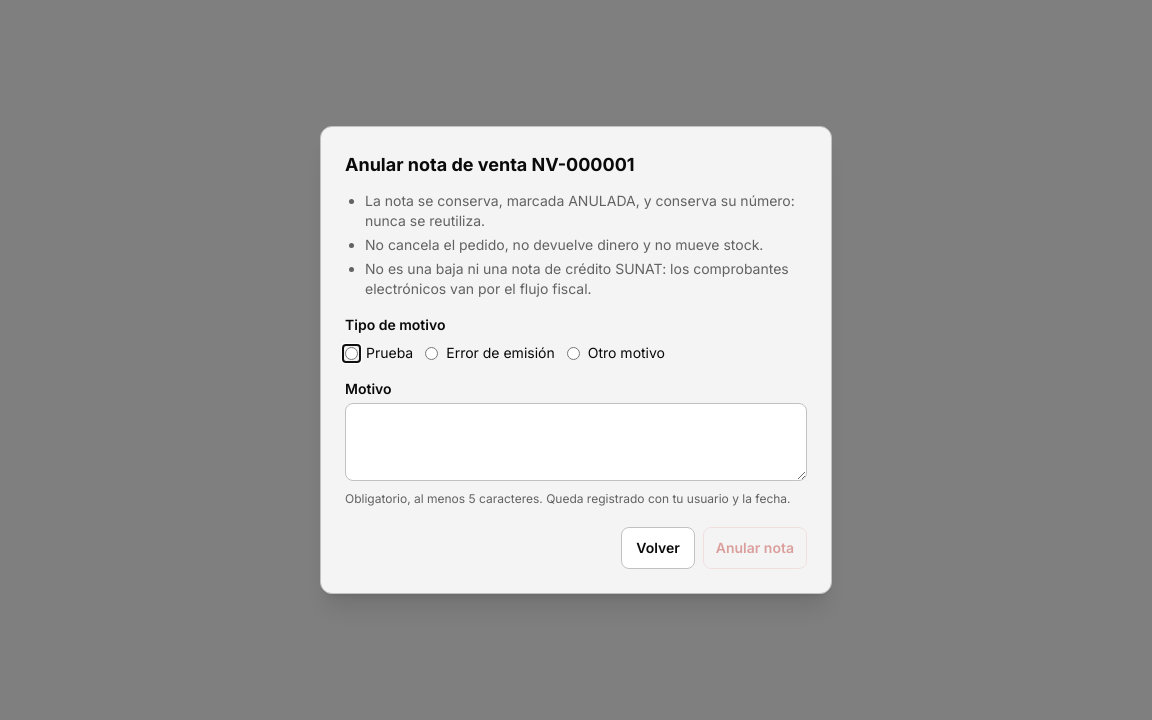
it: SalesNoteVoidDialog › needs a reason type and a reason of at least 5 characters
Expected: the button "Anular nota" is disabled, [703,527,807,569]
# A valid reason without a type is not enough.
In the text box labelled "Motivo": point(576, 442) [345,403,807,481], type "Nota   de prueba"
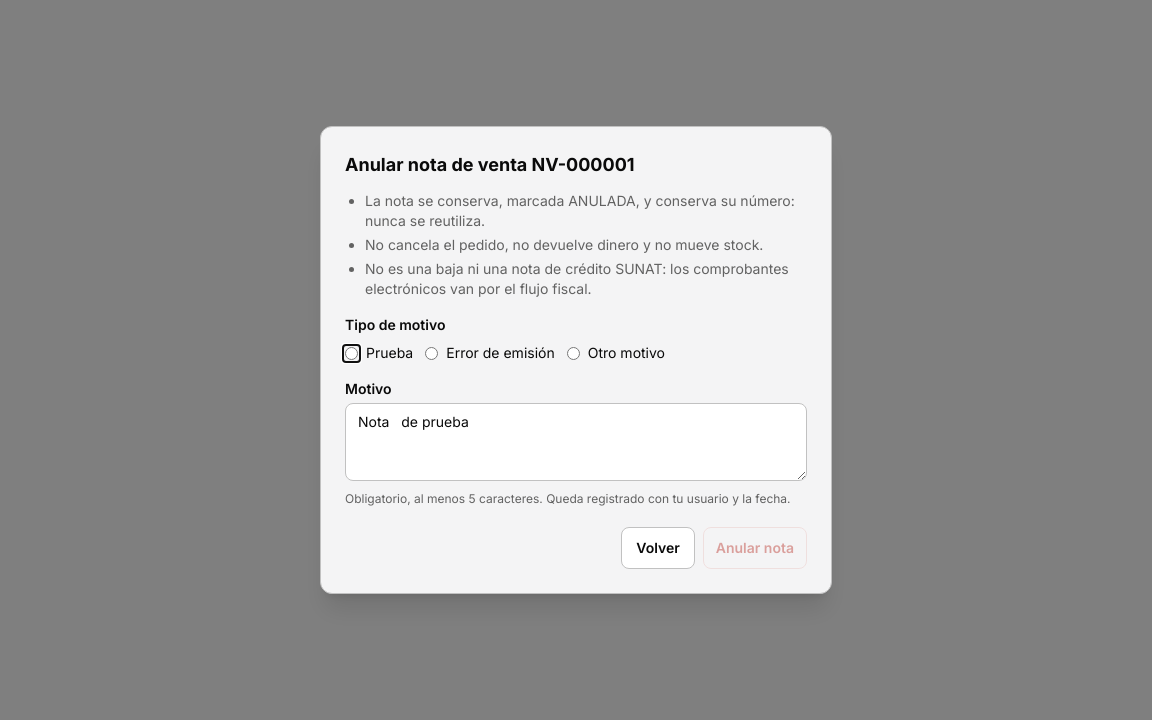
Expected: the button "Anular nota" is disabled, [703,527,807,569]
Replace the text in the text box labelled "Motivo" with "   abc    ": point(576, 442) [345,403,807,481]
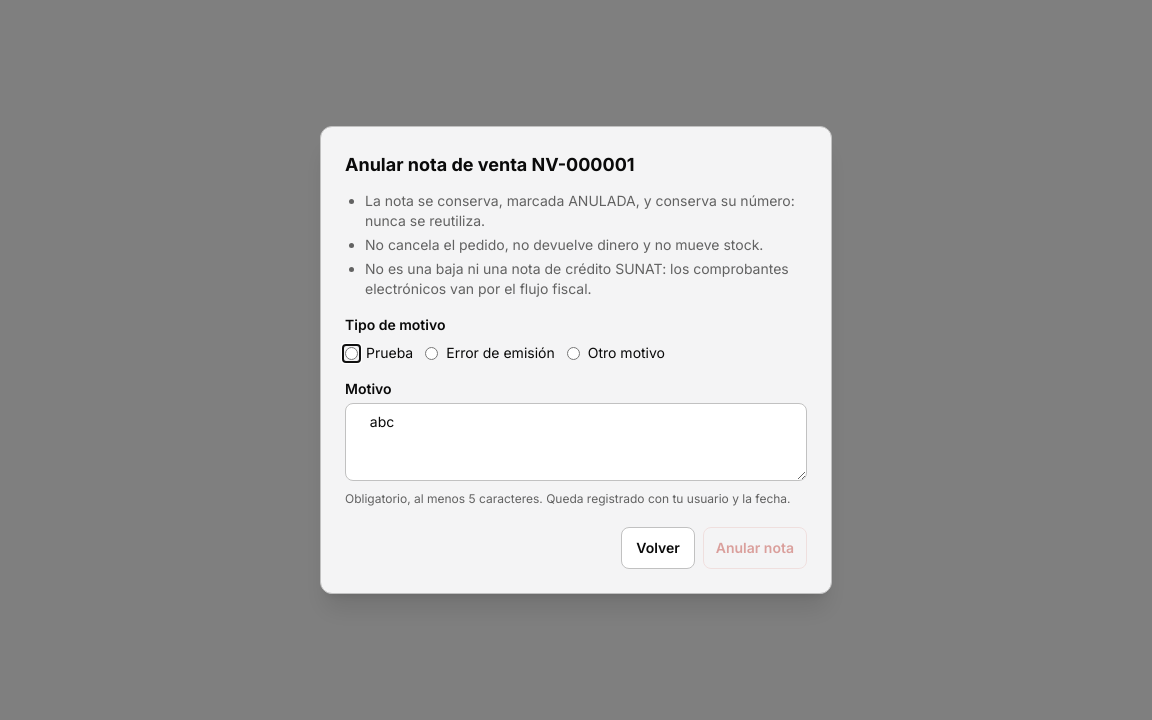
Click the radio button labelled "Prueba": point(352, 353) [345,346,358,360]
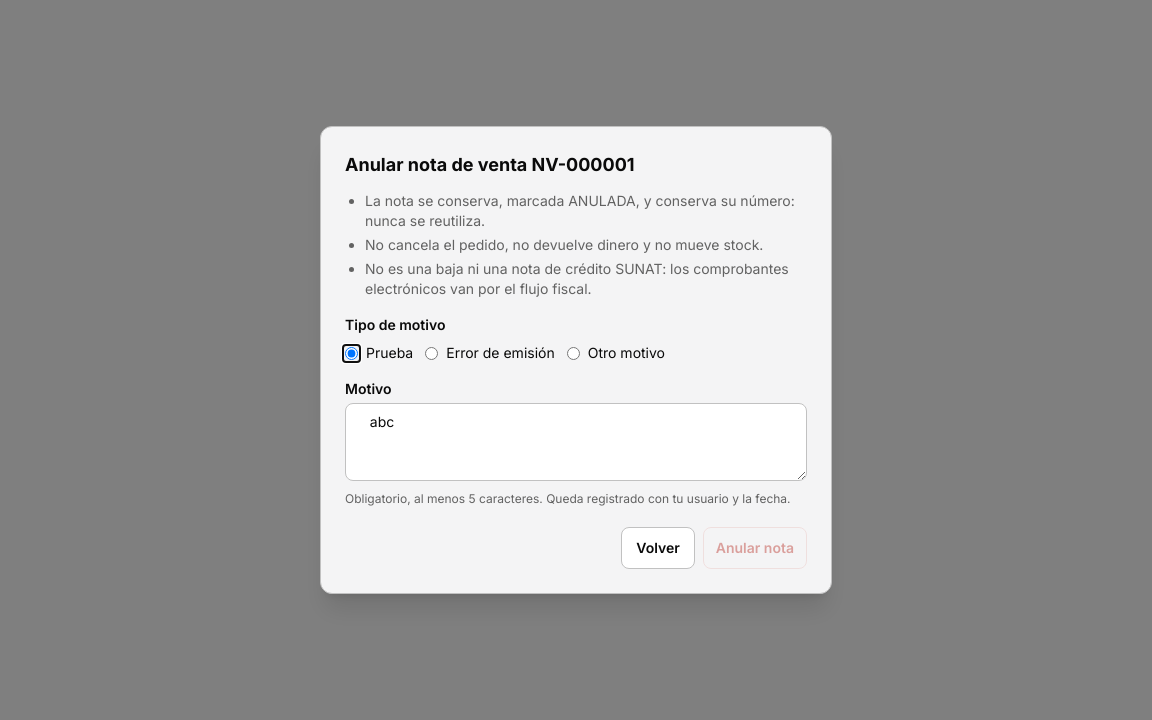
Expected: the button "Anular nota" is disabled, [703,527,807,569]
Replace the text in the text box labelled "Motivo" with "Nota   de prueba": point(576, 442) [345,403,807,481]
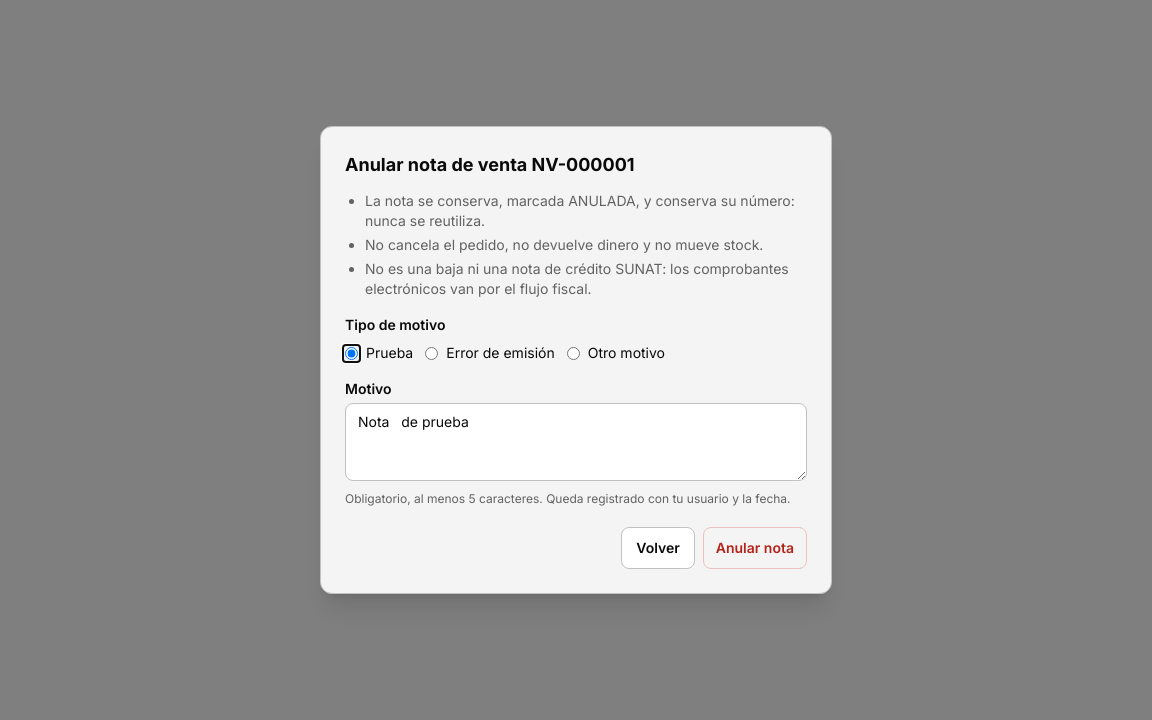
Expected: the button "Anular nota" is enabled, [703,527,807,569]
